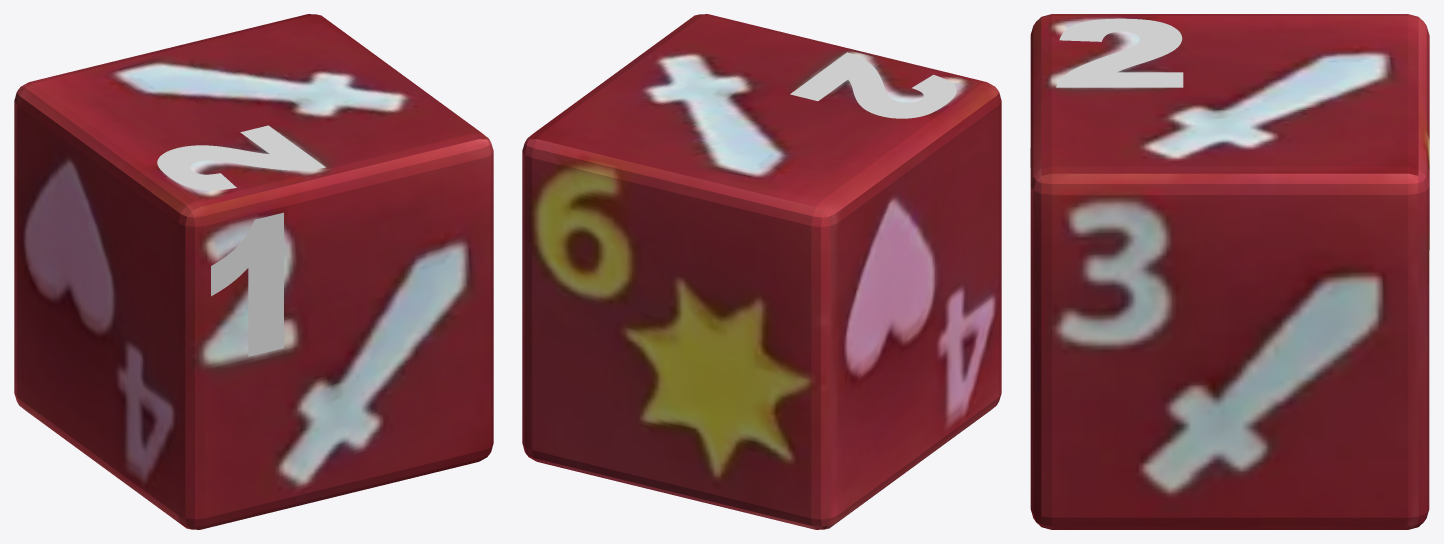
The model's file is Barbarian Dice.002.fbx.
The picture shows the model from 3 angles, left to right: view 1: azimuth 30°, elevation 25°; view 2: azimuth 150°, elevation 25°; view 3: azimuth 270°, elevation 25°; orthographic projection. The views are drawn at different scales.
Visible parts, largest first — view 1: Cube.003; view 2: Cube.003; view 3: Cube.003.
Part boxes in pixels (box(x1,y1,x2,y2)): Cube.003: box(14, 14, 493, 529); Cube.003: box(522, 14, 1001, 529); Cube.003: box(1030, 14, 1429, 529).
Bounding box in the file's own units: 113 × 113 × 113.
Materials: 2 (1 with a texture image).
